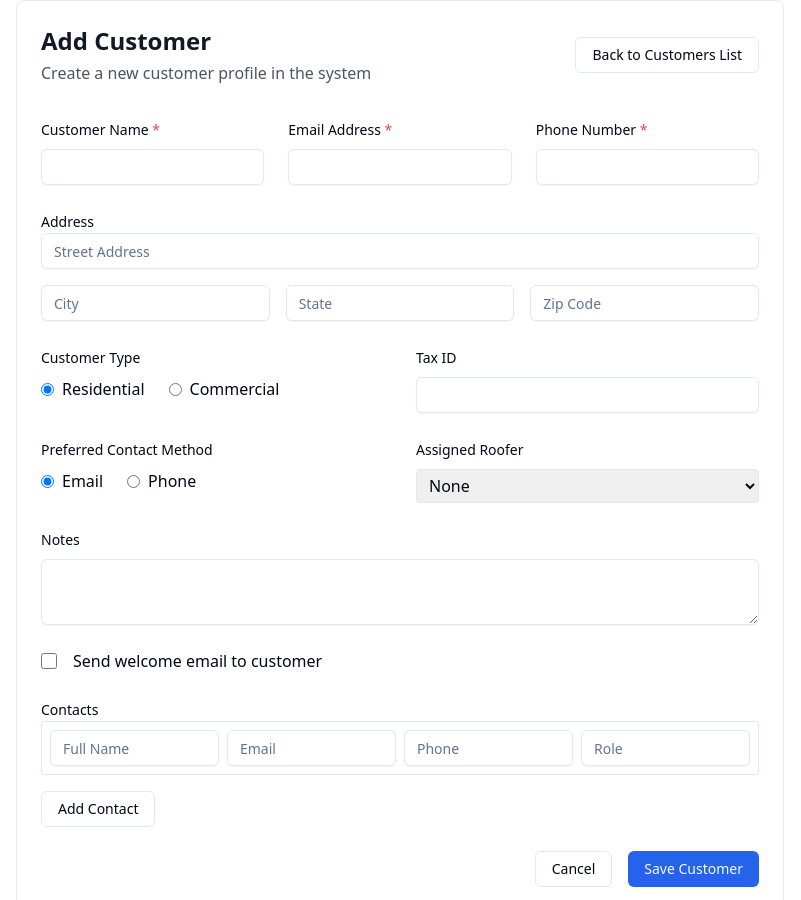
it: AddCustomerForm › can add and remove contacts
The width and height of the screenshot is (801, 900).
Click the button "Add Contact" at (98, 809), box [41,791,156,827]
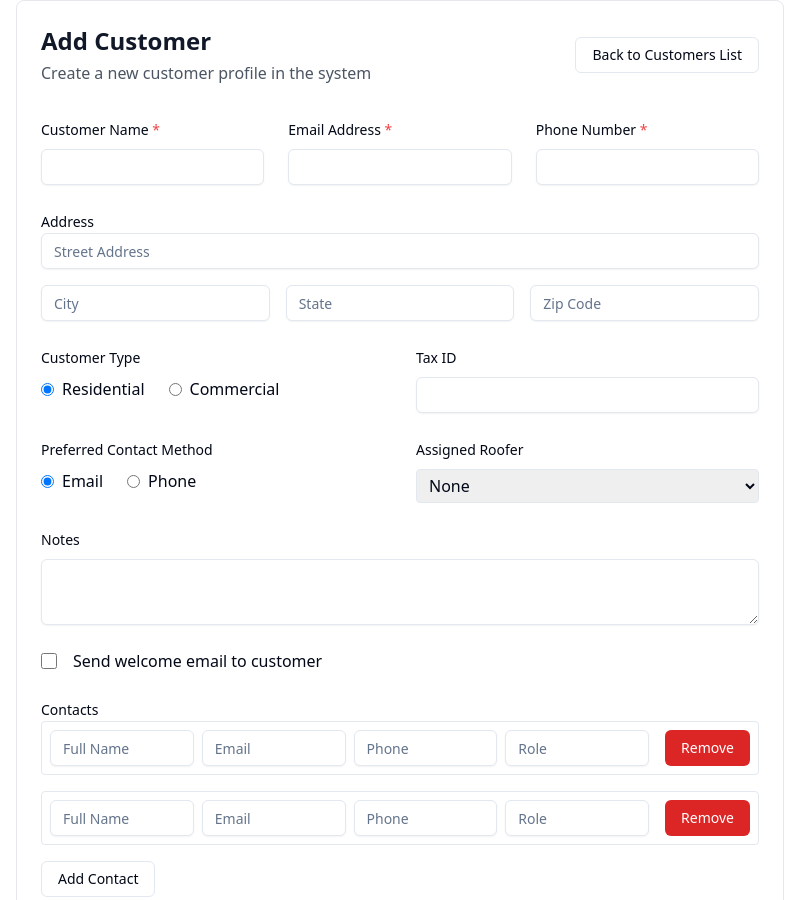
Check: the number of fields with placeholder "Full Name" is 2, box [50,730,194,766]; [50,800,194,836]
Click the 1st button "Remove" at (708, 748), box [665,730,750,766]
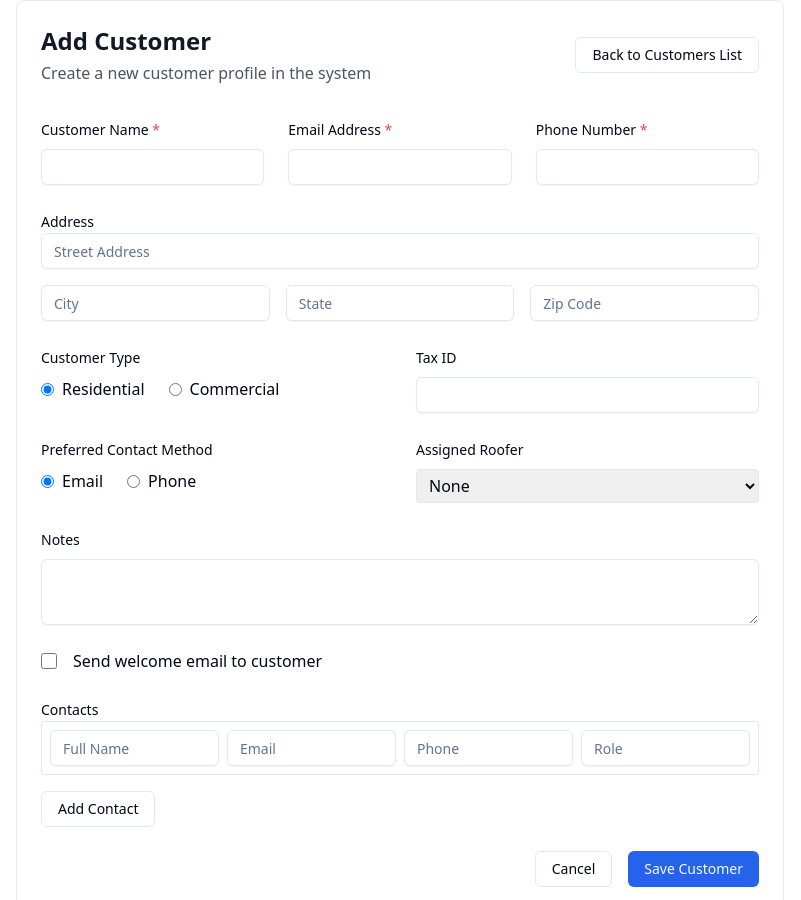
Check: the number of fields with placeholder "Full Name" is 1, box [50,730,219,766]
